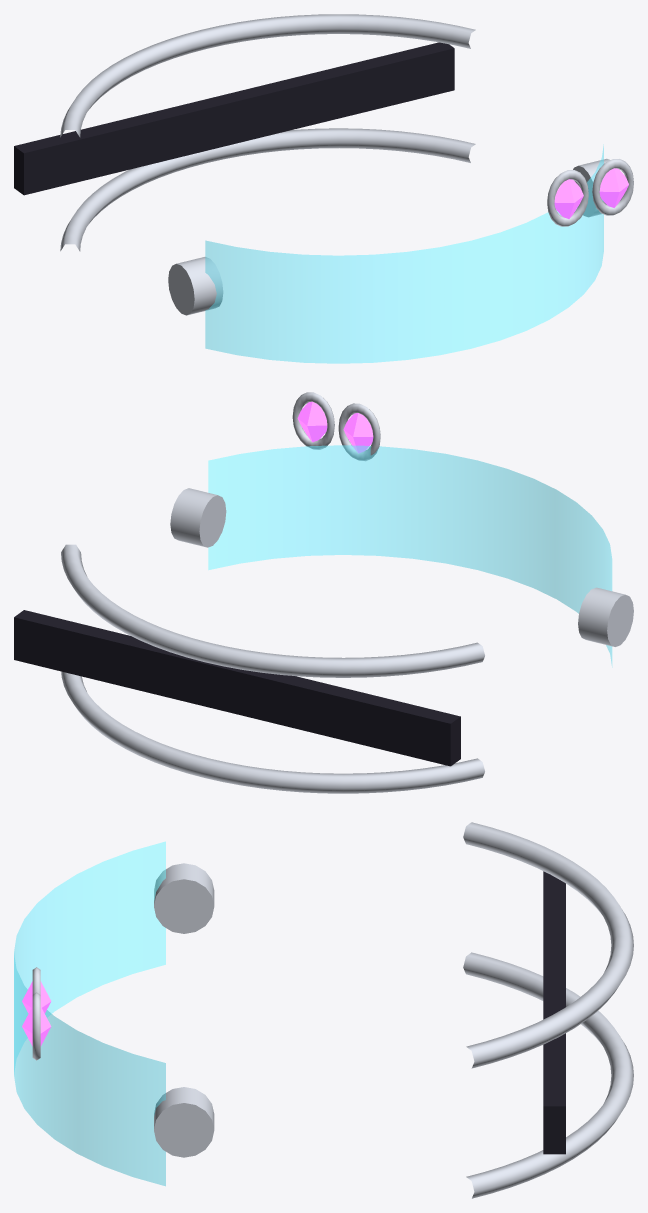
The model's file is gl_eqgw2.glb.
3 renders of one model, top to bottom at view 1: azimuth 30°, elevation 25°; view 2: azimuth 150°, elevation 25°; view 3: azimuth 270°, elevation 25°, orthographic. The views are drawn at different scales.
Size of the model in its own units: 2.31 by 0.7857 by 2.53.
